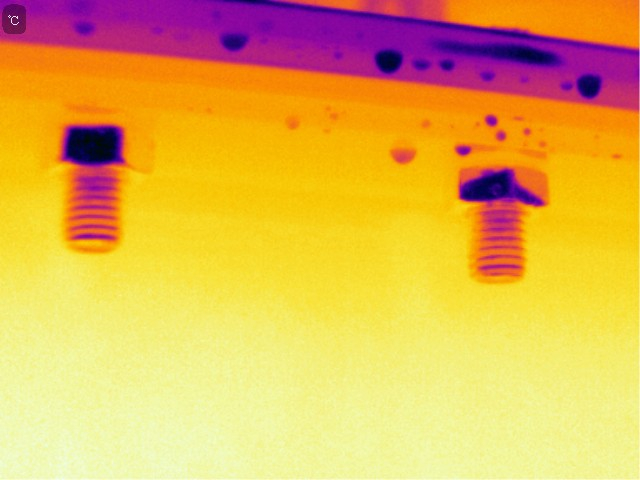Water: (517, 113, 557, 163), (373, 47, 407, 80), (320, 98, 347, 139), (574, 72, 608, 104), (385, 139, 423, 167), (219, 27, 255, 55), (484, 111, 508, 146), (282, 109, 302, 137), (434, 56, 458, 76), (453, 140, 471, 160)
